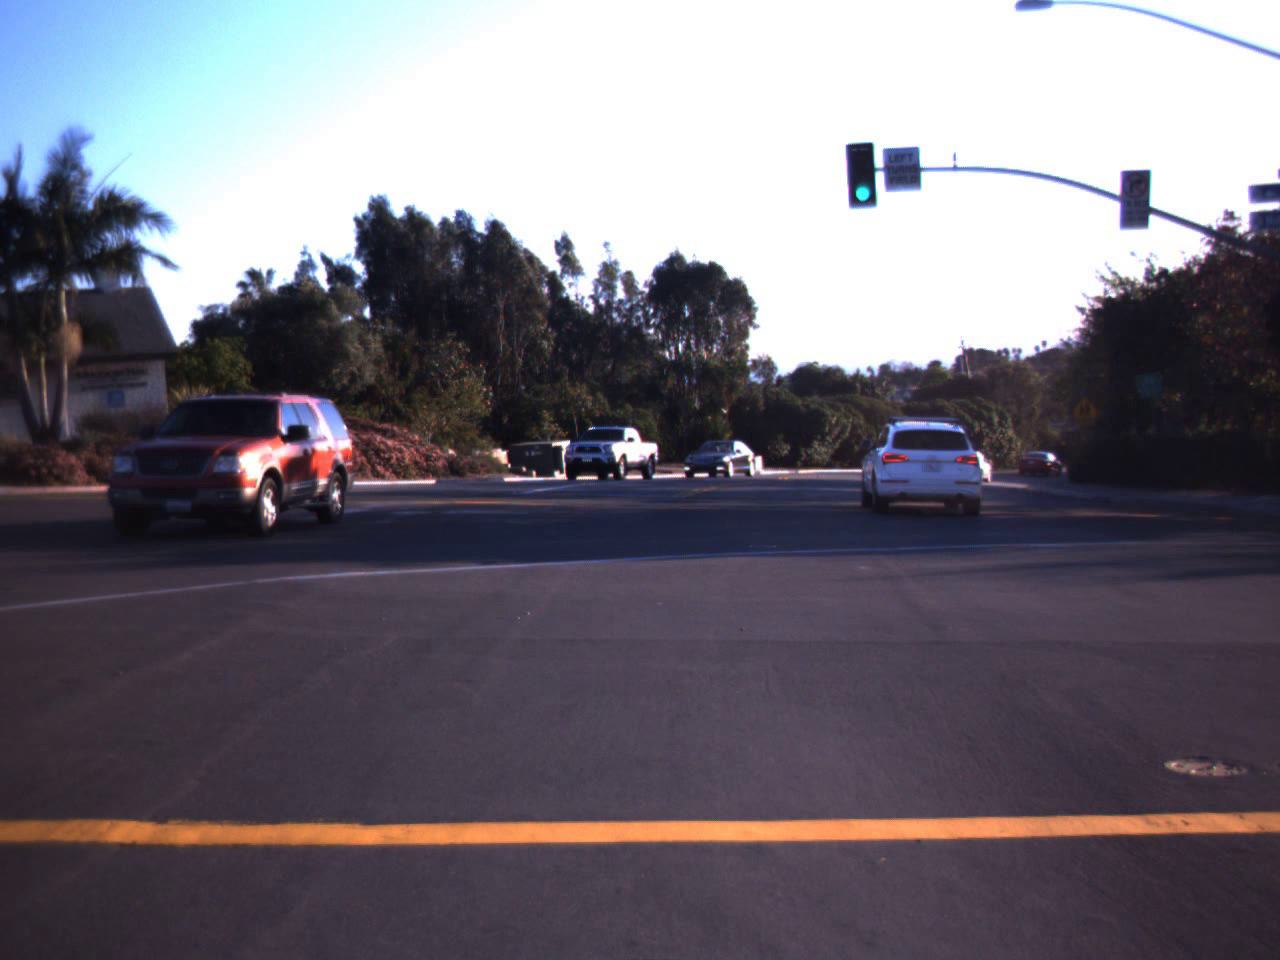go: (843, 146, 882, 206)
